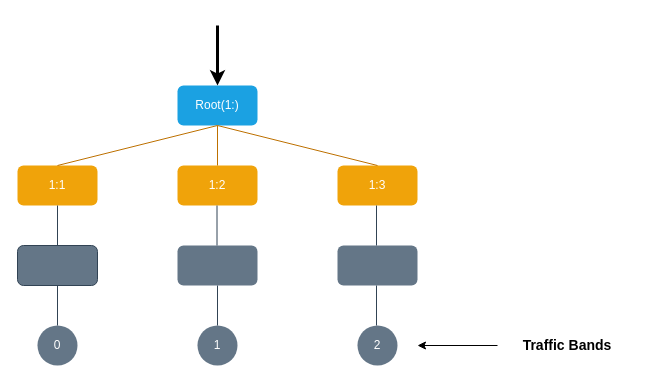
Image size: 655x383. Some labels were removed from this diagram. Each missing label, with the centre of its shape:
10: (sfq): the point at 57,265
11: (sfq): the point at 217,265
12: (sfq): the point at 377,265
